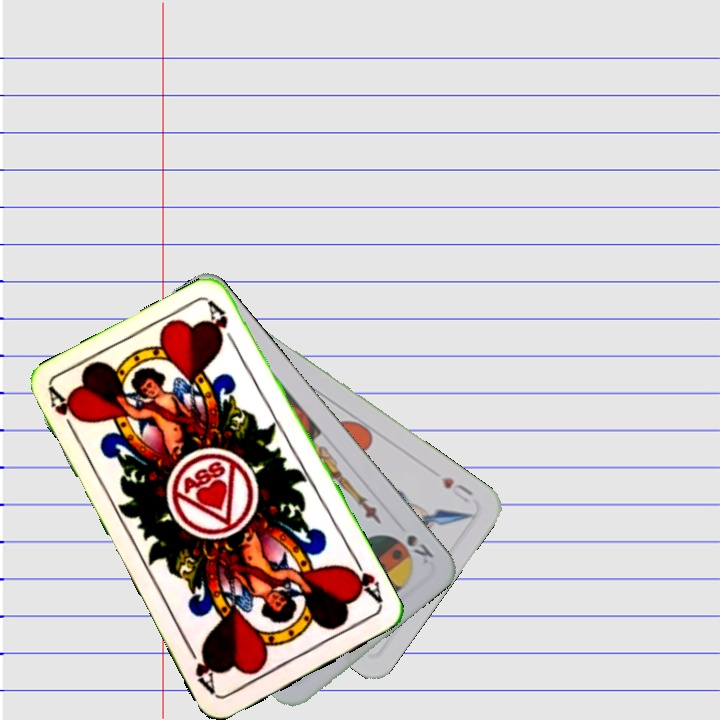HA: (342, 553, 386, 607), (45, 385, 84, 441)
HU: (437, 473, 476, 507)
SK: (402, 530, 437, 567)
